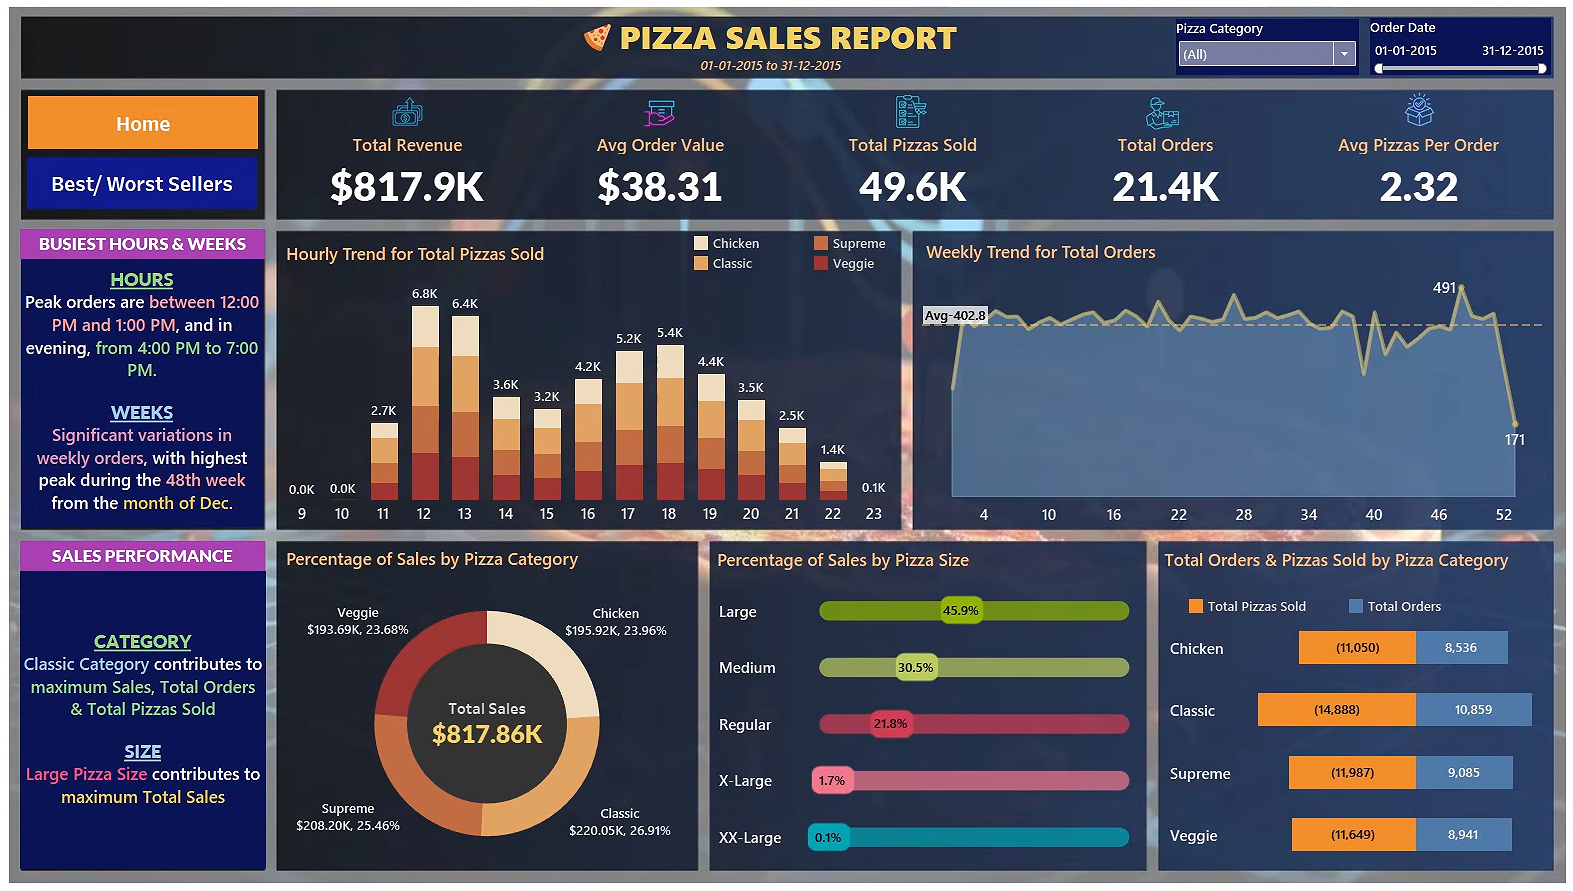

The page's visual inventory and layout, read from the dashboard file:
{"tool":"tableau","page":{"name":"Home","canvas":[1600,900],"ordinal":1},"visuals":[{"type":"image","param":"Image/Pizza Tableau.jpg","box":[0,0,1600,900]},{"type":"text","box":[107,16,153,31]},{"type":"text","box":[618,16,362,36]},{"type":"filter","title":"Total Orders Trend by Order Hour","param":"[federated.1nn7g37097crt1180lo9p08y1th8].[none:order_date:qk]","box":[1376,16,200,57]},{"type":"filter","title":"Total Orders Trend by Order Hour","param":"[federated.1nn7g37097crt1180lo9p08y1th8].[none:pizza_category:nk]","box":[1186,17,182,59]},{"type":"image","param":"Image/DT 2.png","box":[21,20,72,49]},{"type":"image","param":"Image/pizza-slice.png","box":[577,22,44,28]},{"type":"text","box":[143,40,110,31]},{"type":"worksheet","title":"Date Range","mark":"Automatic","box":[692,52,205,20]},{"type":"image","param":"Image/profit-growth.png","box":[389,91,45,37]},{"type":"image","param":"Image/delivery-man.png","box":[1165,92,40,34]},{"type":"image","param":"Image/shipping-box.png","box":[645,94,43,31]},{"type":"image","param":"Image/order-delivery.png","box":[910,94,38,31]},{"type":"image","param":"Image/order (1).png","box":[1422,95,41,34]},{"type":"dashboard-object","box":[26,106,233,47]},{"type":"image","param":"Image/home (1) 1.png","box":[27,113,42,36]},{"type":"worksheet","title":"KPI Banner","mark":"Automatic","box":[281,134,1290,82]},{"type":"dashboard-object","box":[26,162,233,47]},{"type":"image","param":"Image/choice 1.png","box":[27,167,42,36]},{"type":"text","box":[18,232,250,30]},{"type":"worksheet","title":"Total Orders by Month ","mark":"Area","rows":["Calculation_1225260629919797248","Calculation_1225260629919797248"],"cols":["order_date"],"box":[931,234,645,298]},{"type":"legend","title":"Total Orders Trend by Order Hour","param":"[federated.1nn7g37097crt1180lo9p08y1th8].[none:pizza_category:nk]","box":[695,236,252,45]},{"type":"worksheet","title":"Total Orders Trend by Order Hour","mark":"Bar","rows":["Calculation_1225260629920124930","Calculation_1225260629920124930"],"cols":["order_time"],"box":[282,238,628,293]},{"type":"text","box":[21,262,243,274]},{"type":"text","box":[18,547,250,30]},{"type":"worksheet","title":"% of Sales by Pizza Category","mark":"Pie","rows":["Calculation_1225260630074863622","Calculation_1225260630263562255"],"box":[286,554,415,322]},{"type":"text","box":[1185,555,372,30]},{"type":"worksheet","title":"Sheet 8","mark":"Line","rows":["pizza_size"],"box":[730,556,428,322]},{"type":"text","box":[23,577,239,306]},{"type":"legend","title":"Total Orders & Quantity Sold by Pizza Category (2)","param":"[federated.1nn7g37097crt1180lo9p08y1th8].[:Measure Names]","box":[1193,599,364,26]},{"type":"worksheet","title":"Total Orders & Quantity Sold by Pizza Category (2)","mark":"Automatic","rows":["pizza_category"],"box":[1180,628,389,250]}]}

Visuals, with their boxes in screenshot pixels (x1, y1, x2, y2), scaled from the page's 1600x900 canvas onto the 1573x891 screenshot:
image: pyautogui.locateOnScreen(0, 0, 1572, 890)
text: pyautogui.locateOnScreen(105, 16, 256, 47)
text: pyautogui.locateOnScreen(608, 16, 963, 51)
"Total Orders Trend by Order Hour" filter: pyautogui.locateOnScreen(1353, 16, 1549, 72)
"Total Orders Trend by Order Hour" filter: pyautogui.locateOnScreen(1166, 17, 1345, 75)
image: pyautogui.locateOnScreen(21, 20, 91, 68)
image: pyautogui.locateOnScreen(567, 22, 611, 50)
text: pyautogui.locateOnScreen(141, 40, 249, 70)
"Date Range" worksheet: pyautogui.locateOnScreen(680, 51, 882, 71)
image: pyautogui.locateOnScreen(382, 90, 427, 127)
image: pyautogui.locateOnScreen(1145, 91, 1185, 125)
image: pyautogui.locateOnScreen(634, 93, 676, 124)
image: pyautogui.locateOnScreen(895, 93, 932, 124)
image: pyautogui.locateOnScreen(1398, 94, 1438, 128)
dashboard-object: pyautogui.locateOnScreen(26, 105, 255, 151)
image: pyautogui.locateOnScreen(27, 112, 68, 148)
"KPI Banner" worksheet: pyautogui.locateOnScreen(276, 133, 1544, 214)
dashboard-object: pyautogui.locateOnScreen(26, 160, 255, 207)
image: pyautogui.locateOnScreen(27, 165, 68, 201)
text: pyautogui.locateOnScreen(18, 230, 263, 259)
"Total Orders by Month " worksheet (Area marks): pyautogui.locateOnScreen(915, 232, 1549, 527)
"Total Orders Trend by Order Hour" legend: pyautogui.locateOnScreen(683, 234, 931, 278)
"Total Orders Trend by Order Hour" worksheet (Bar marks): pyautogui.locateOnScreen(277, 236, 895, 526)
text: pyautogui.locateOnScreen(21, 259, 260, 531)
text: pyautogui.locateOnScreen(18, 542, 263, 571)
"% of Sales by Pizza Category" worksheet (Pie marks): pyautogui.locateOnScreen(281, 548, 689, 867)
text: pyautogui.locateOnScreen(1165, 549, 1531, 579)
"Sheet 8" worksheet (Line marks): pyautogui.locateOnScreen(718, 550, 1138, 869)
text: pyautogui.locateOnScreen(23, 571, 258, 874)
"Total Orders & Quantity Sold by Pizza Category (2)" legend: pyautogui.locateOnScreen(1173, 593, 1531, 619)
"Total Orders & Quantity Sold by Pizza Category (2)" worksheet: pyautogui.locateOnScreen(1160, 622, 1543, 869)
